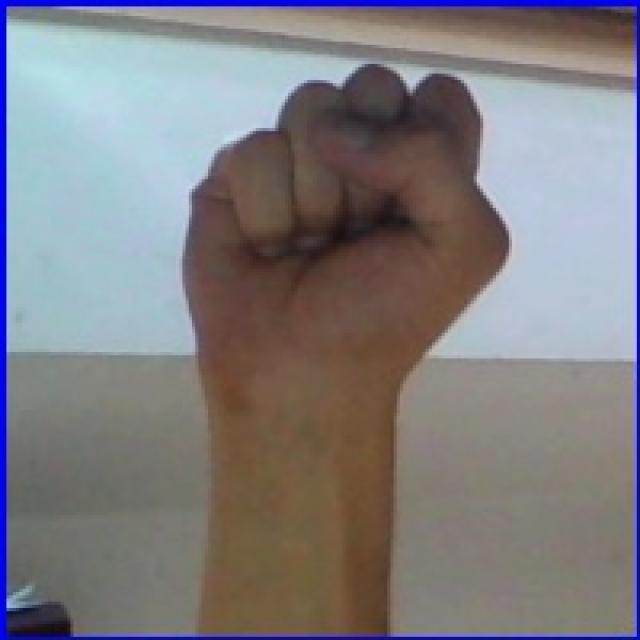Letra-S: (148, 37, 526, 406)
